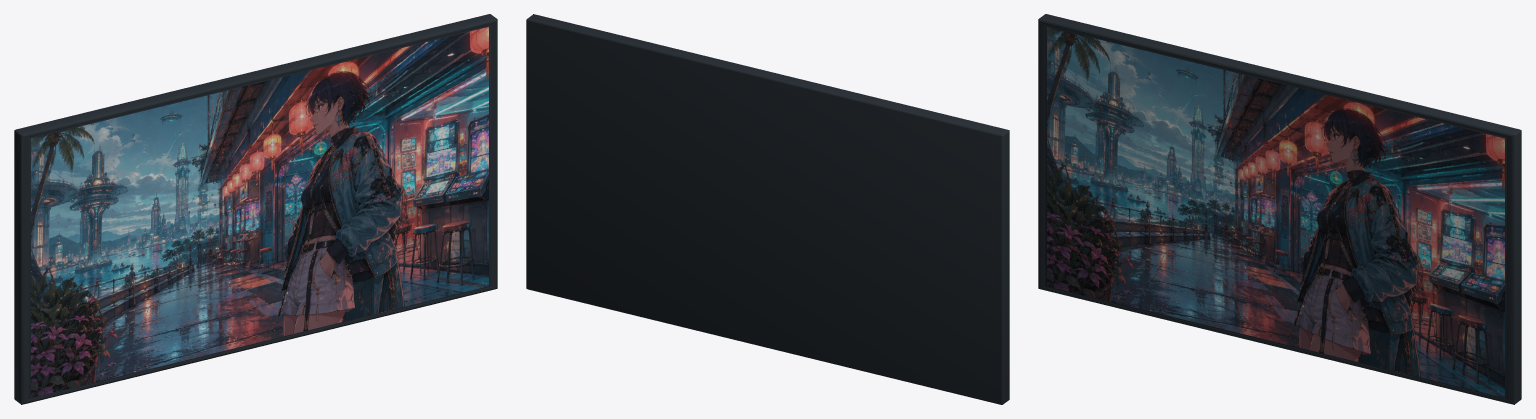
The model's file is anime-landscape-3.glb.
The picture shows the model from 3 angles, left to right: view 1: azimuth 30°, elevation 25°; view 2: azimuth 150°, elevation 25°; view 3: azimuth 330°, elevation 25°; orthographic projection.
Visible parts, largest first — view 1: catalog_surface_UVMap; view 2: catalog_surface_UVMap; view 3: catalog_surface_UVMap.
Part boxes in pixels (bbox=[...]): catalog_surface_UVMap: bbox=[14, 14, 497, 404]; catalog_surface_UVMap: bbox=[526, 14, 1009, 404]; catalog_surface_UVMap: bbox=[1038, 14, 1521, 404].
Size of the model in its own units: 1.2 by 0.65 by 0.035.
Materials: 2 (1 with a texture image).
